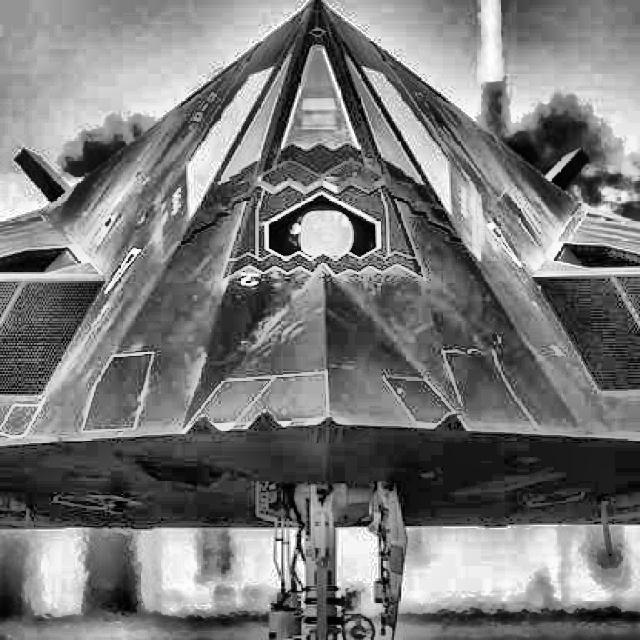F117: (1, 1, 639, 639)
